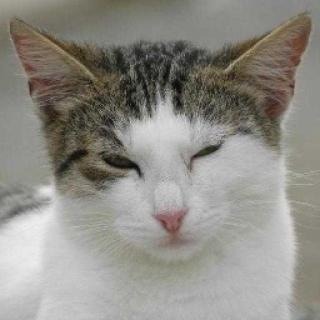cat: (13, 12, 310, 272)
nose: (143, 179, 194, 241)
